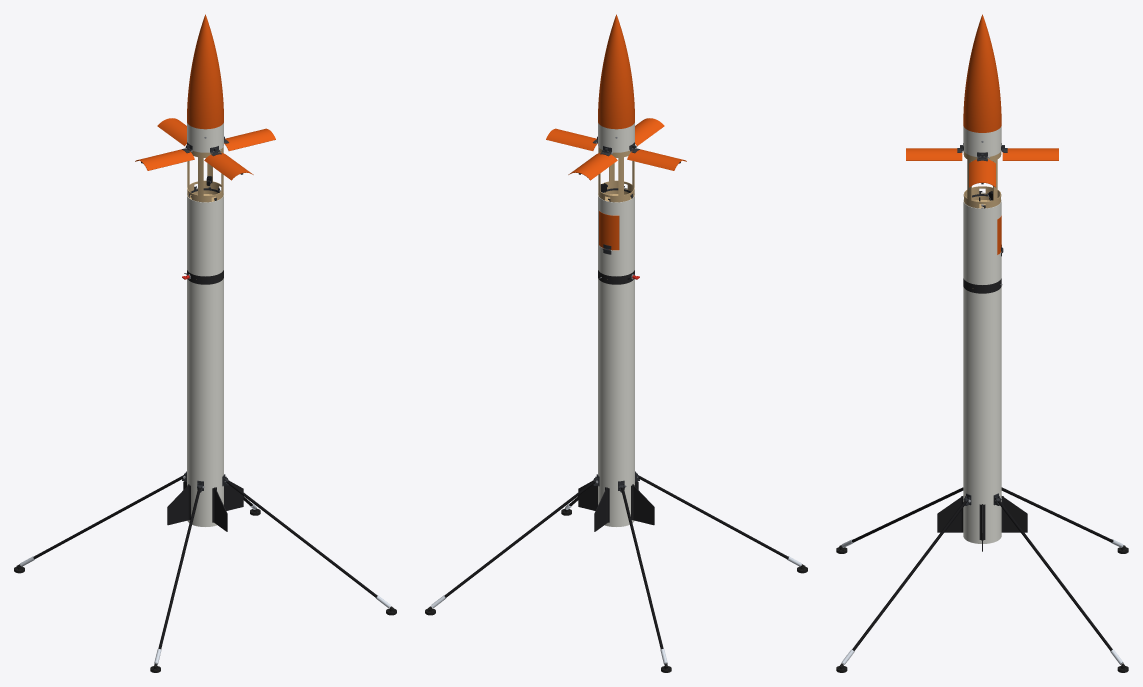
The model's file is slr1_landing.glb.
The picture shows the model from 3 angles, left to right: view 1: azimuth 30°, elevation 25°; view 2: azimuth 150°, elevation 25°; view 3: azimuth 270°, elevation 25°; orthographic projection. The views are drawn at different scales.
Parts seen in each view (by area): view 1: TUBE-04-1, NOSE-01-1, TUBE-02-1, CPL-01-1, TUBE-01-1, PETAL-01-3, PETAL-01-1, LEG-STRUT-4, PETAL-01-4, LEG-STRUT-2, LEG-STRUT-3, FIN-01-3; view 2: TUBE-04-1, NOSE-01-1, TUBE-02-1, CPL-01-1, TUBE-01-1, DOOR-01-1, PETAL-01-3, LEG-STRUT-1, PETAL-01-1, PETAL-01-2, LEG-STRUT-3, LEG-STRUT-2 (+1 smaller); view 3: TUBE-04-1, NOSE-01-1, TUBE-02-1, TUBE-01-1, CPL-01-1, PETAL-01-2, PETAL-01-4, LEG-STRUT-1, LEG-STRUT-4, PETAL-01-1, FIN-01-2, FIN-01-4 (+2 smaller).
Part boxes in pixels (box(x1,y1,x2,y2)): TUBE-04-1: box(187, 278, 223, 526); NOSE-01-1: box(187, 14, 223, 129); TUBE-02-1: box(187, 187, 223, 276); CPL-01-1: box(187, 147, 223, 202); TUBE-01-1: box(187, 123, 223, 152); PETAL-01-3: box(135, 149, 194, 170); PETAL-01-1: box(224, 128, 275, 150); LEG-STRUT-4: box(226, 480, 377, 597); PETAL-01-4: box(204, 152, 253, 180); LEG-STRUT-2: box(33, 475, 183, 559); LEG-STRUT-3: box(158, 487, 200, 649); FIN-01-3: box(167, 484, 189, 525); TUBE-04-1: box(598, 278, 634, 526); NOSE-01-1: box(598, 14, 634, 129); TUBE-02-1: box(598, 187, 634, 276); CPL-01-1: box(598, 147, 634, 202); TUBE-01-1: box(598, 123, 634, 152); DOOR-01-1: box(599, 211, 619, 250); PETAL-01-3: box(627, 149, 686, 170); LEG-STRUT-1: box(444, 480, 595, 597); PETAL-01-1: box(546, 128, 597, 150); PETAL-01-2: box(568, 152, 617, 180); LEG-STRUT-3: box(638, 475, 788, 559); LEG-STRUT-2: box(621, 487, 663, 649); TUBE-04-1: box(963, 287, 1001, 543); NOSE-01-1: box(963, 14, 1001, 132); TUBE-02-1: box(963, 192, 1001, 284); TUBE-01-1: box(963, 126, 1001, 156); CPL-01-1: box(963, 151, 1001, 208); PETAL-01-2: box(1002, 148, 1058, 160); PETAL-01-4: box(906, 148, 962, 160); LEG-STRUT-1: box(998, 500, 1112, 651); LEG-STRUT-4: box(852, 500, 966, 651); PETAL-01-1: box(969, 159, 995, 187); FIN-01-2: box(1001, 496, 1027, 532); FIN-01-4: box(937, 496, 963, 532).
Bounding box in the file's own units: 774 × 1744 × 774.
